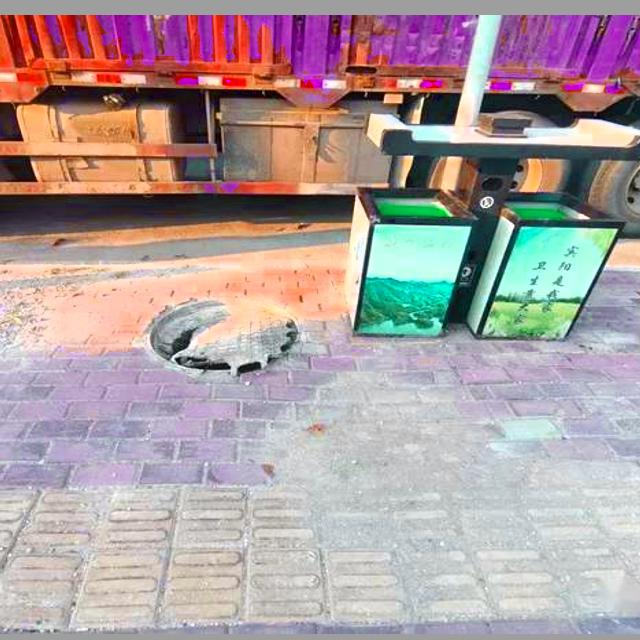broke: (126, 277, 326, 404)
